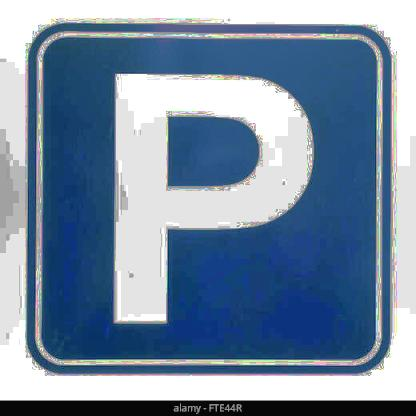Parking: (23, 18, 391, 382)
